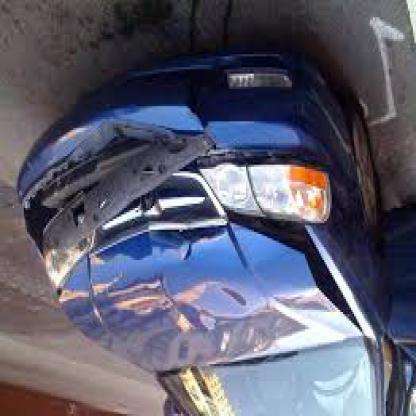dent: (165, 228, 205, 264)
